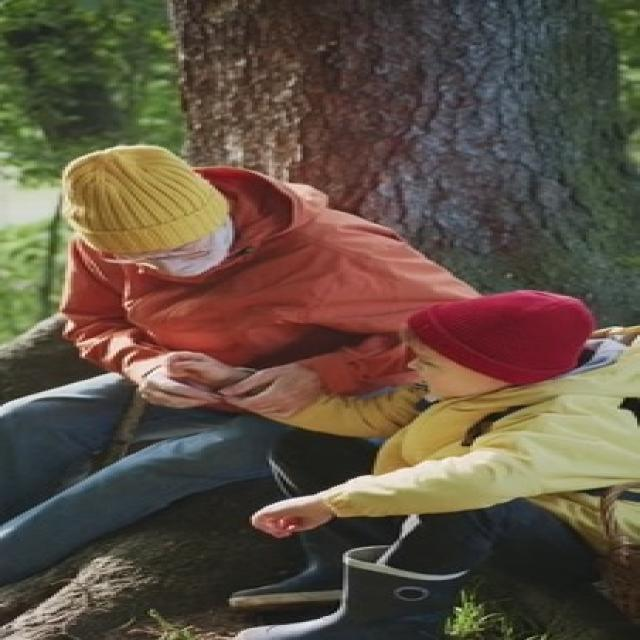Jacket_Wearer: (37, 201, 524, 408)
Person: (50, 145, 469, 488)
